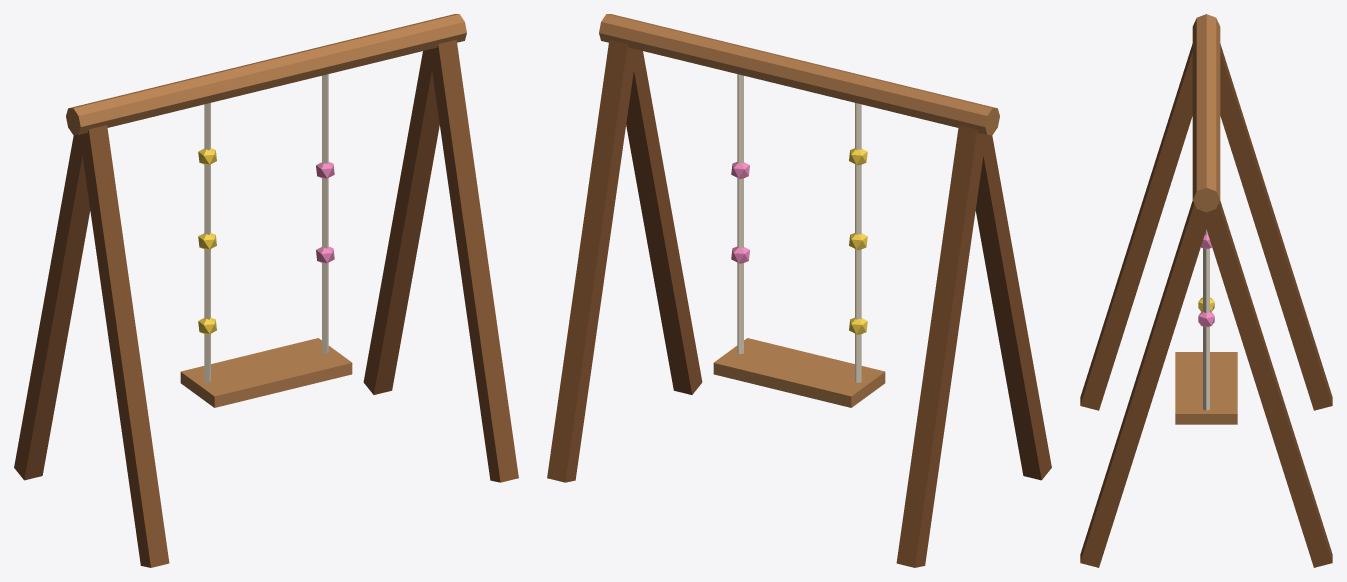
Rendered from swing.glb.
3 views of the same model, side by side, from view 1: azimuth 30°, elevation 25°; view 2: azimuth 150°, elevation 25°; view 3: azimuth 270°, elevation 25° (orthographic). The views are drawn at different scales.
Visible parts, largest first — view 1: swing_frame, SwingSeat; view 2: swing_frame, SwingSeat; view 3: swing_frame, SwingSeat.
Boxes of the visible parts, bbox=[...] form: swing_frame: bbox=[14, 14, 518, 567]; SwingSeat: bbox=[180, 74, 352, 407]; swing_frame: bbox=[547, 14, 1051, 567]; SwingSeat: bbox=[713, 74, 885, 407]; swing_frame: bbox=[1080, 14, 1332, 567]; SwingSeat: bbox=[1175, 229, 1237, 424].
Bounding box in the file's own units: 2.1 × 2.17 × 1.29.
